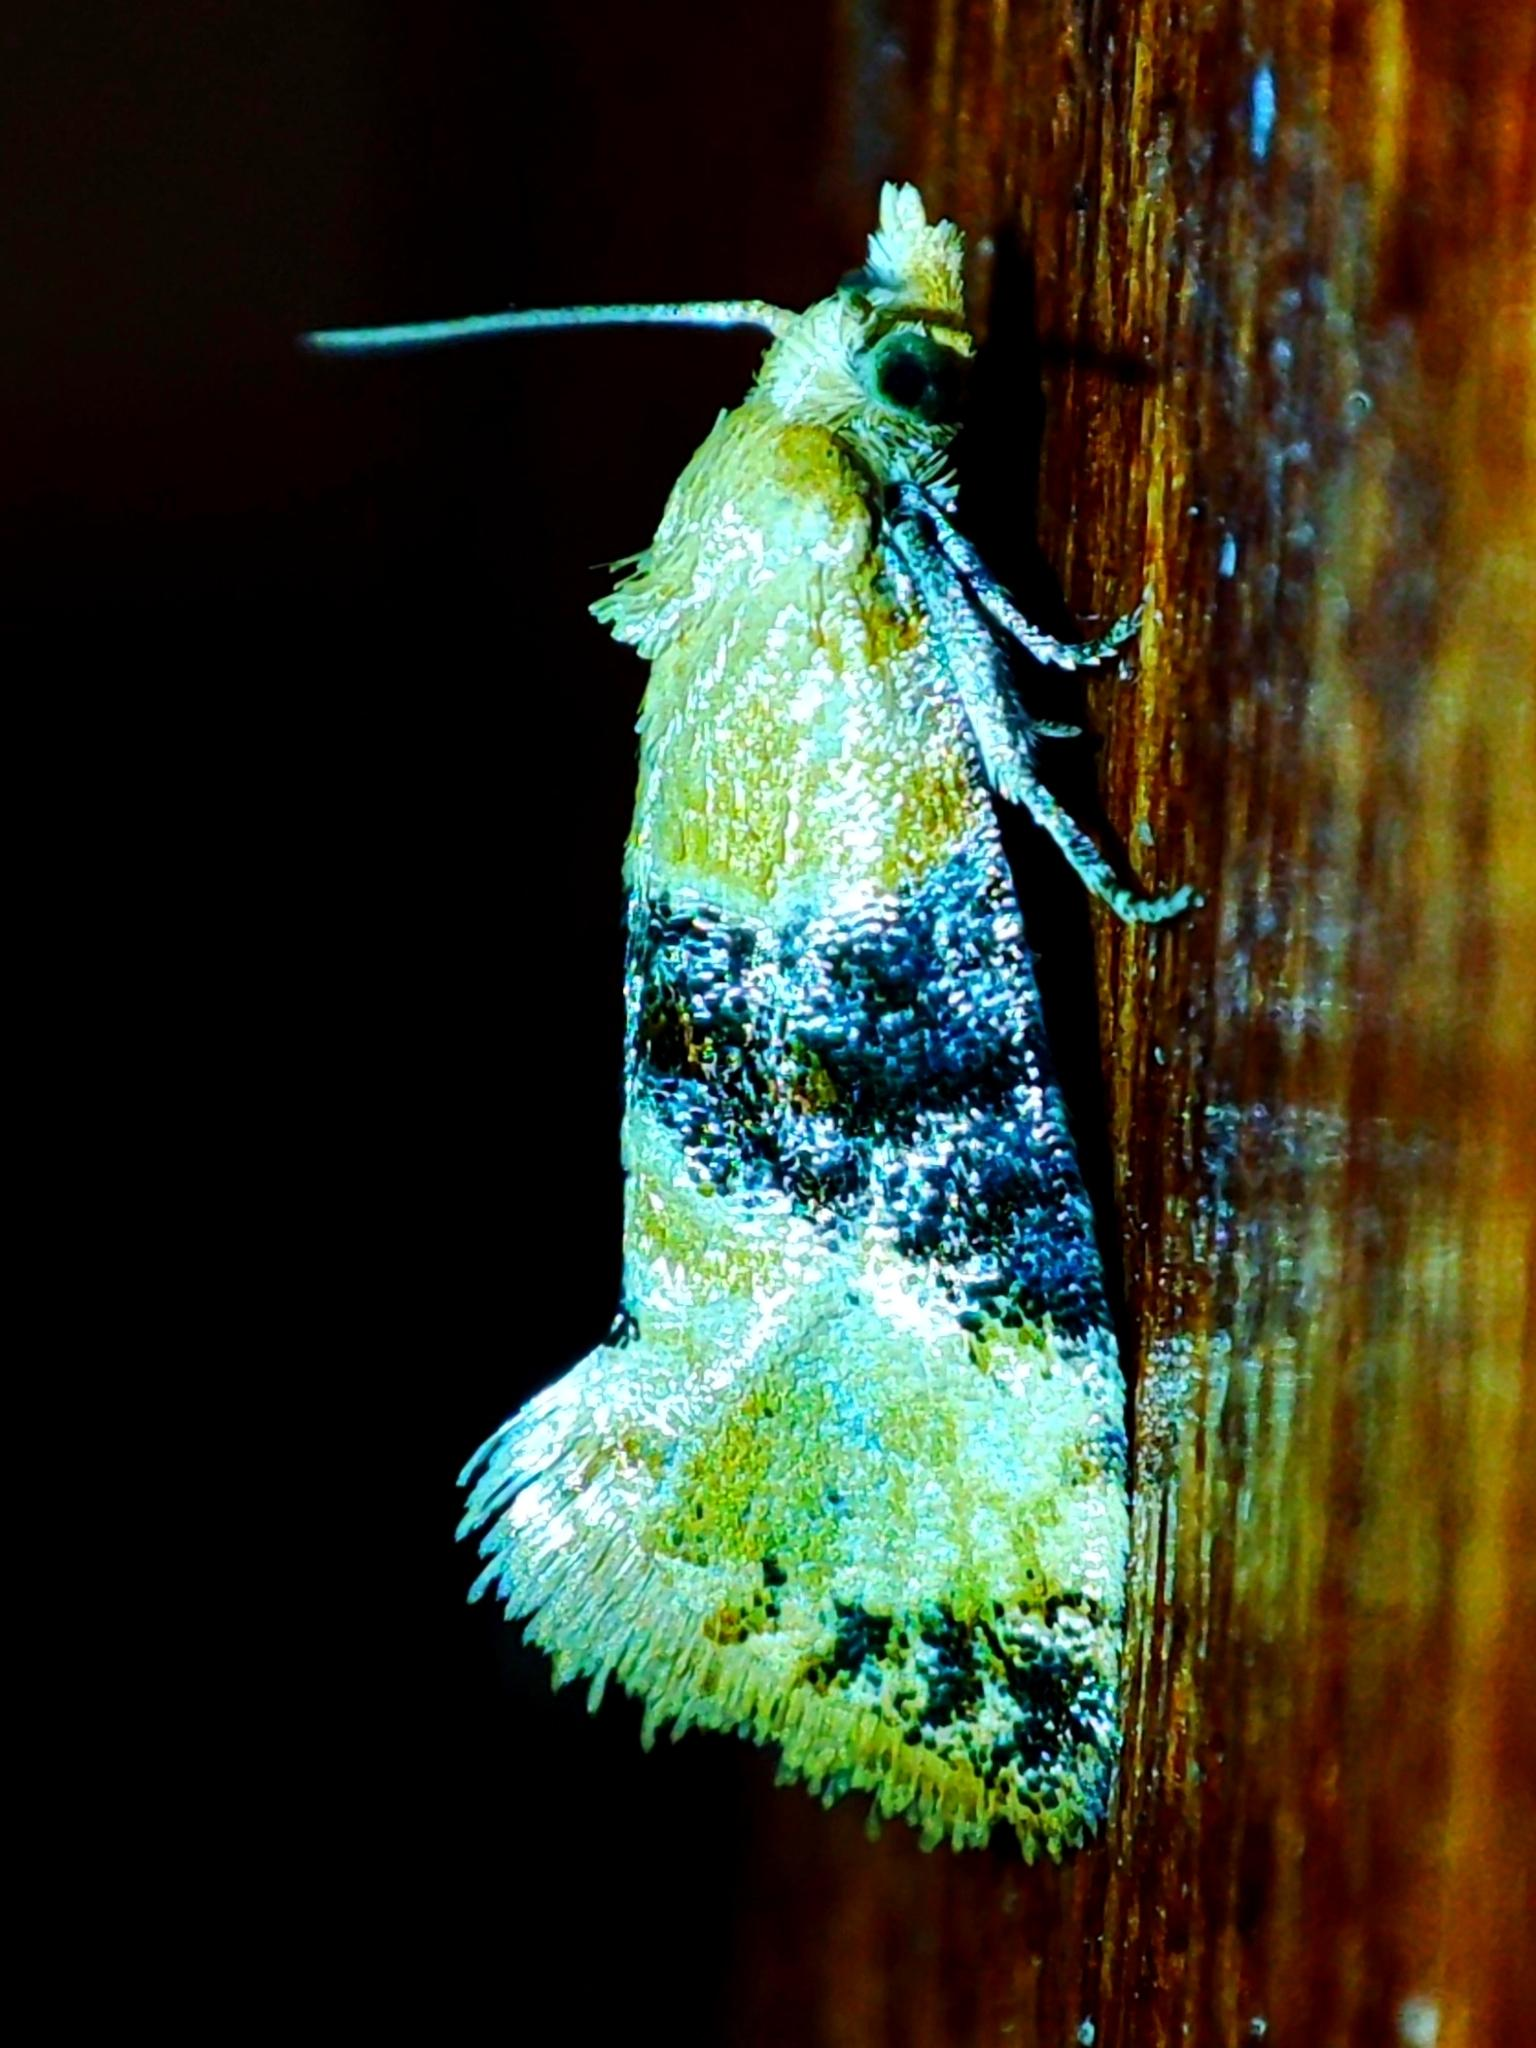Eupoecilia Ambiguella: (292, 177, 1210, 1867)
